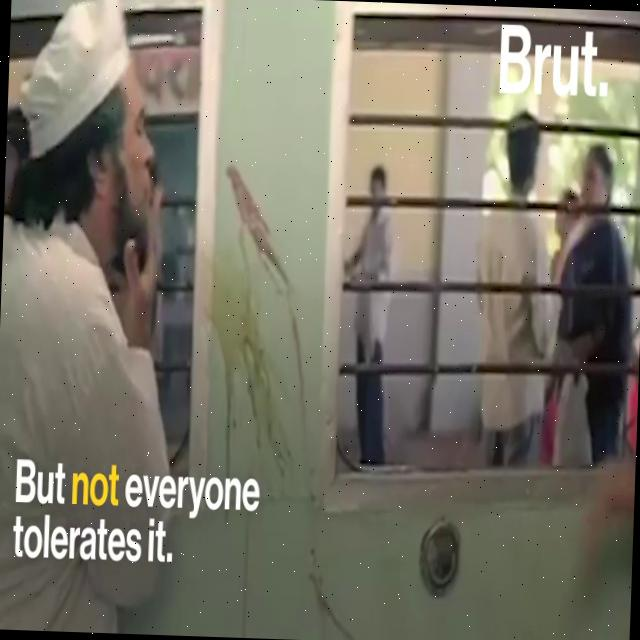spit: (129, 113, 316, 500)
